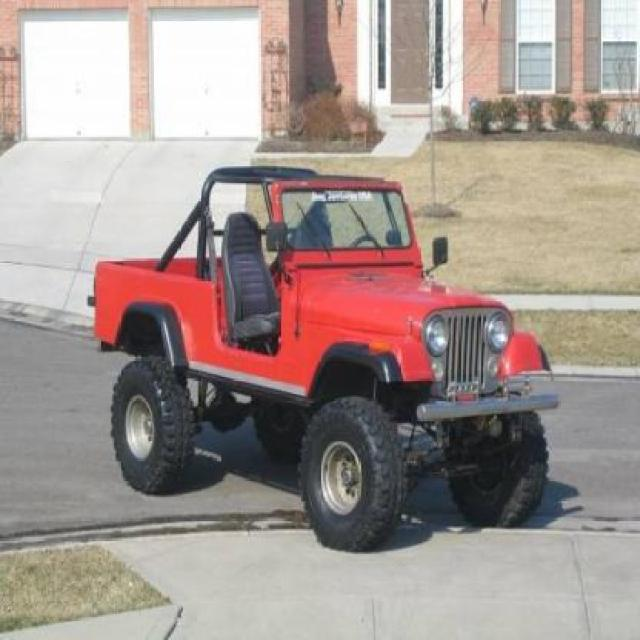Jeep: (90, 161, 554, 544)
